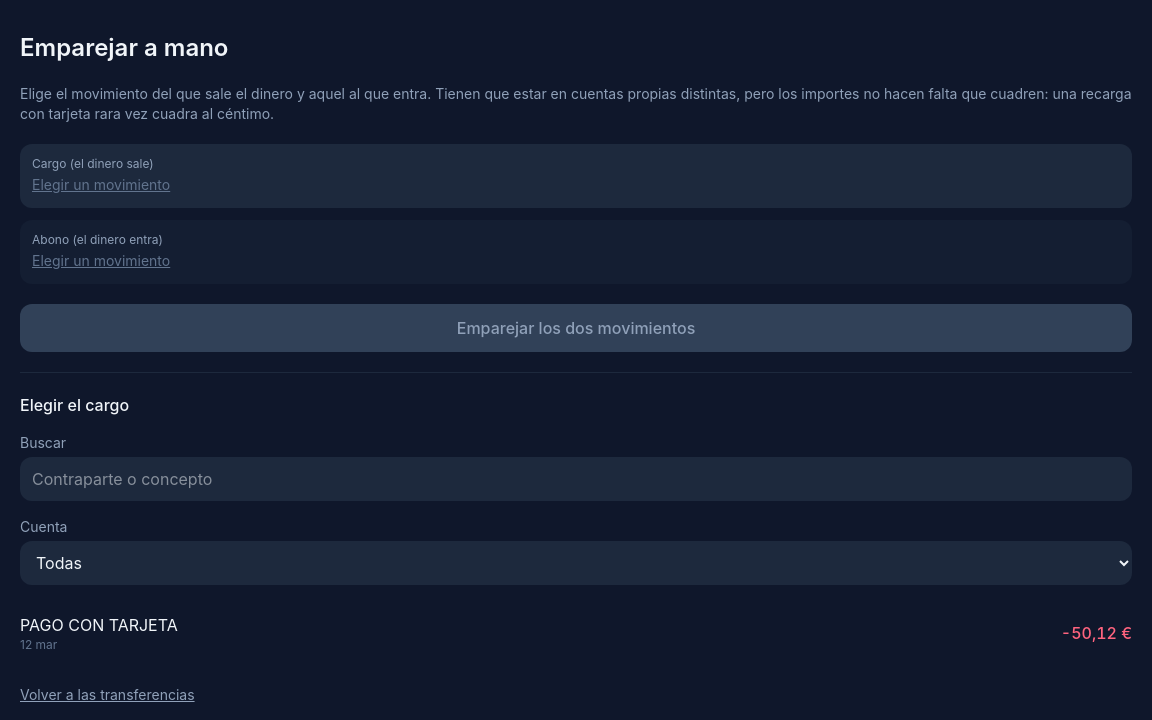
PairTransferScreen › empareja dos movimientos cuyos importes no cuadran
Click the text "PAGO CON TARJETA".
click(99, 625)  # box x1=20 y1=615 x2=178 y2=635
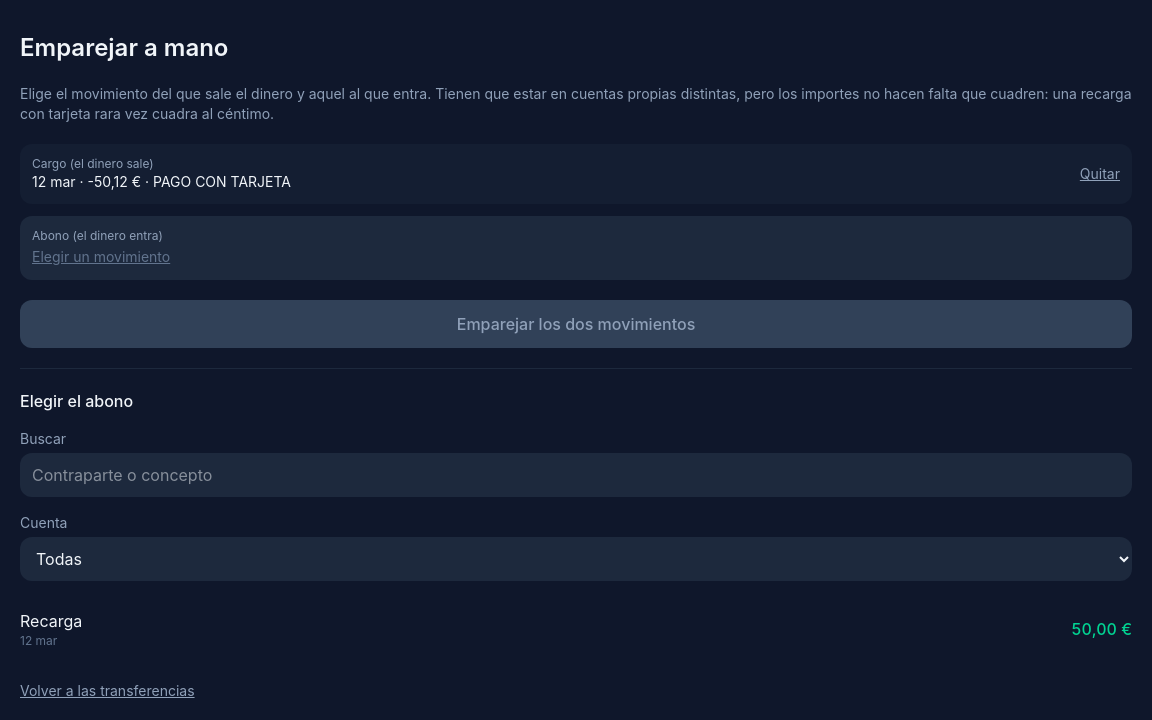
Click the text "Recarga".
click(51, 621)  # box x1=20 y1=611 x2=82 y2=631
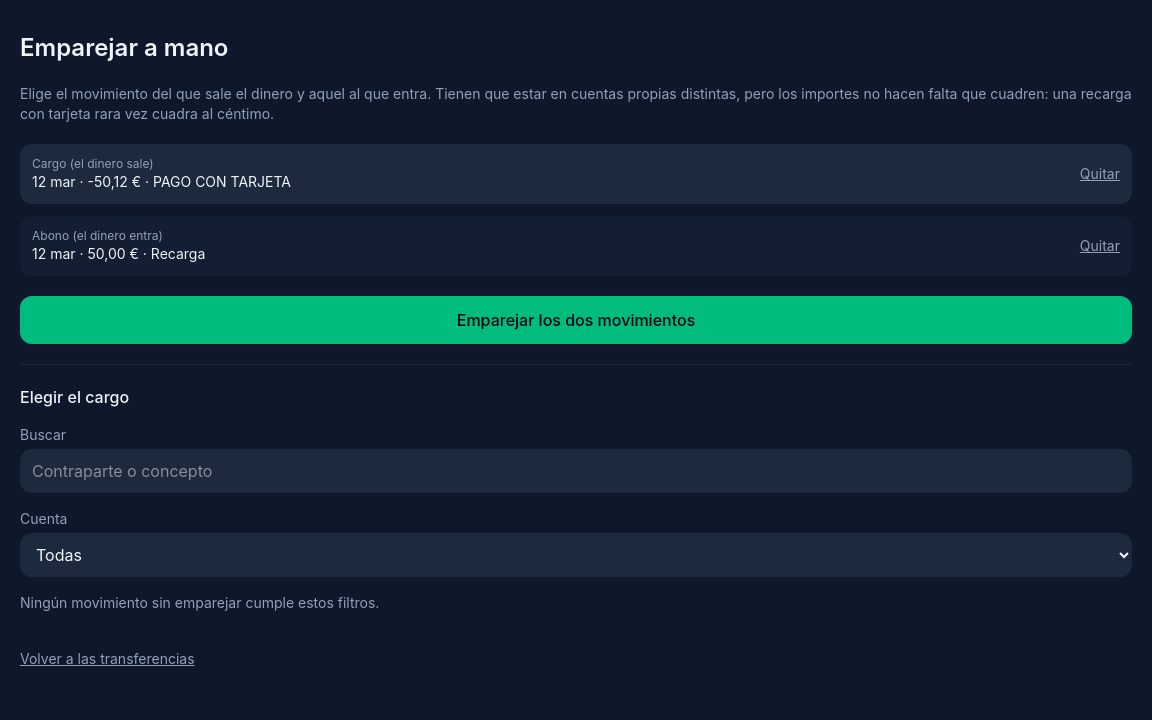
Click the button "Emparejar los dos movimientos".
click(576, 320)  # box x1=20 y1=296 x2=1132 y2=344
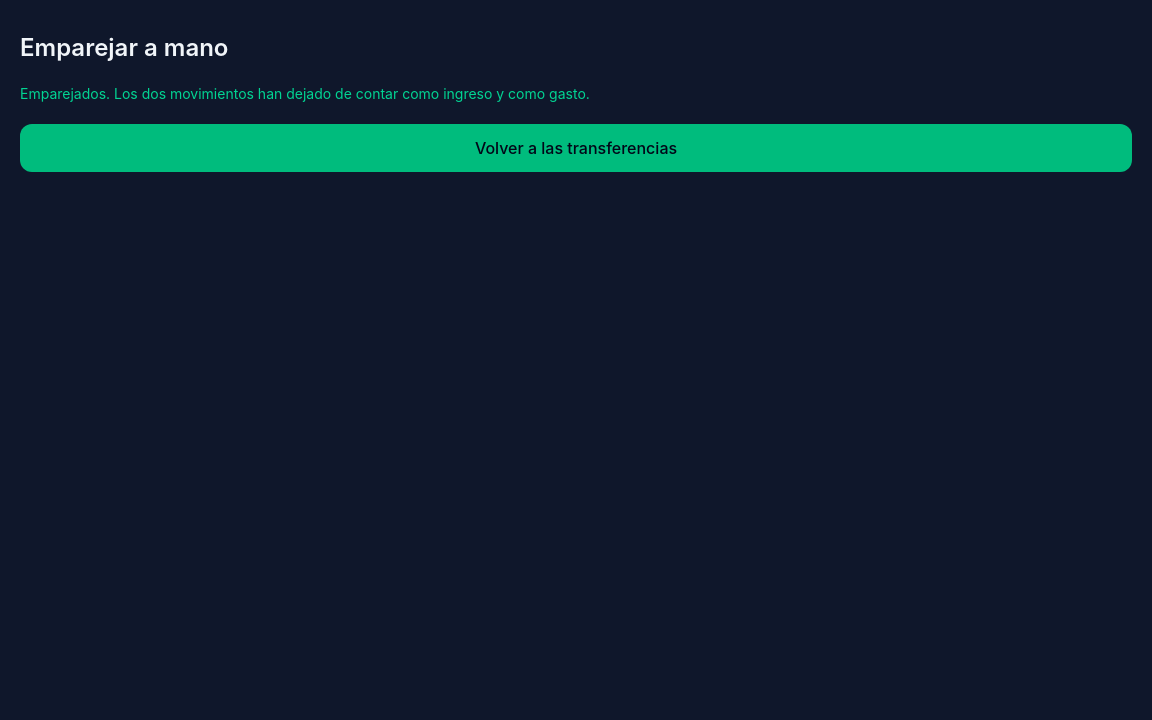
Check: the text "Emparejados." is shown, box x1=20 y1=85 x2=590 y2=102
